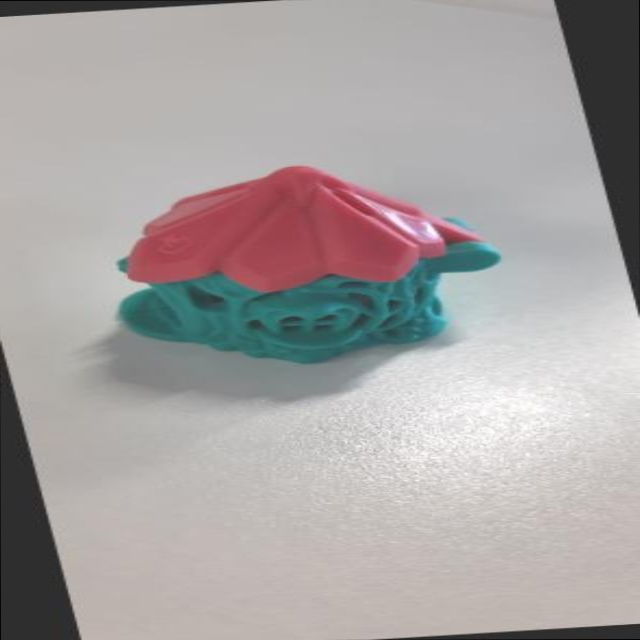House: (63, 139, 546, 378)
